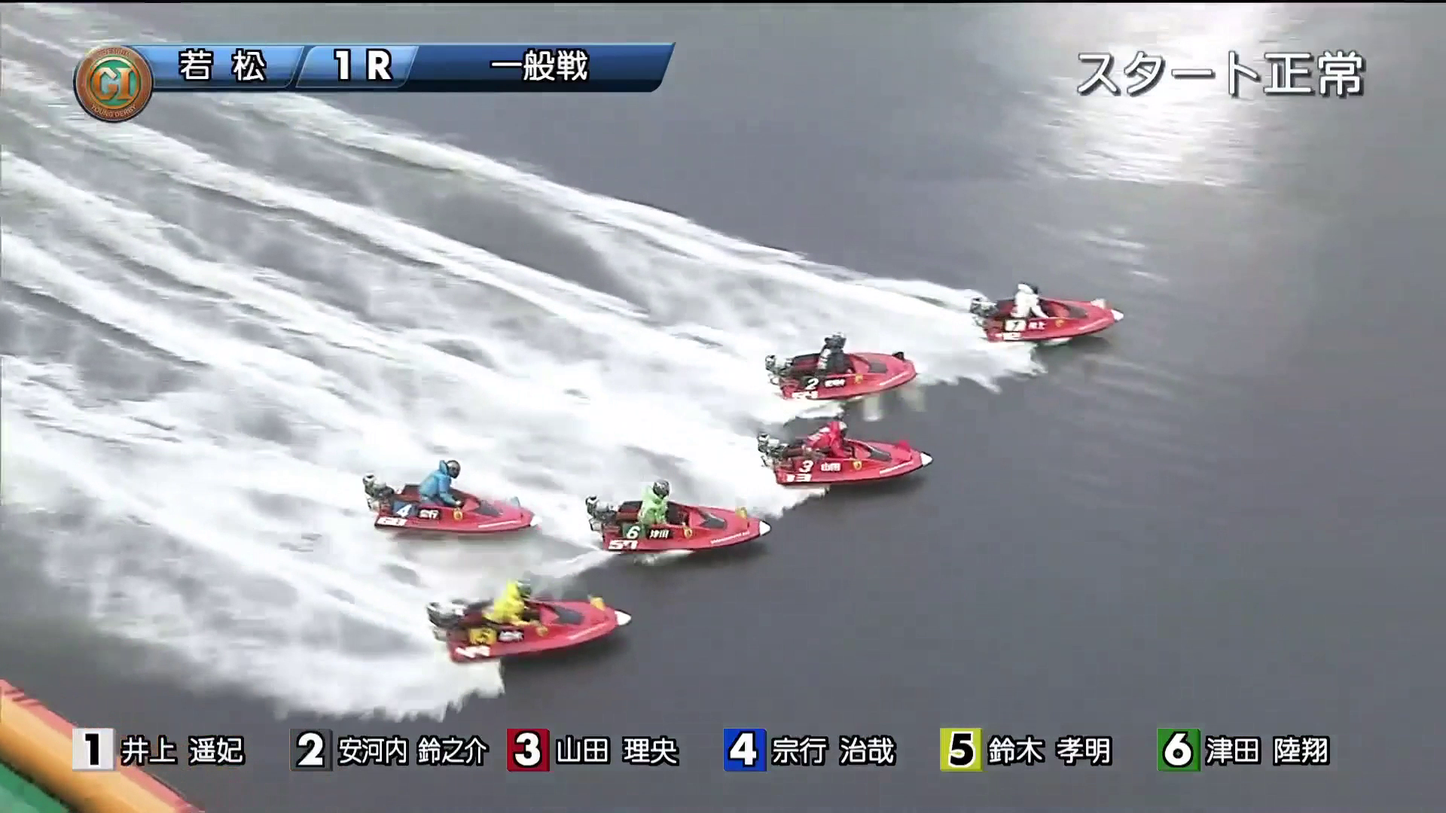１号艇: (993, 289, 1131, 342)
２号艇: (778, 337, 906, 397)
３号艇: (794, 430, 934, 476)
４号艇: (611, 490, 732, 556)
５号艇: (375, 488, 499, 543)
６号艇: (506, 608, 606, 665)
